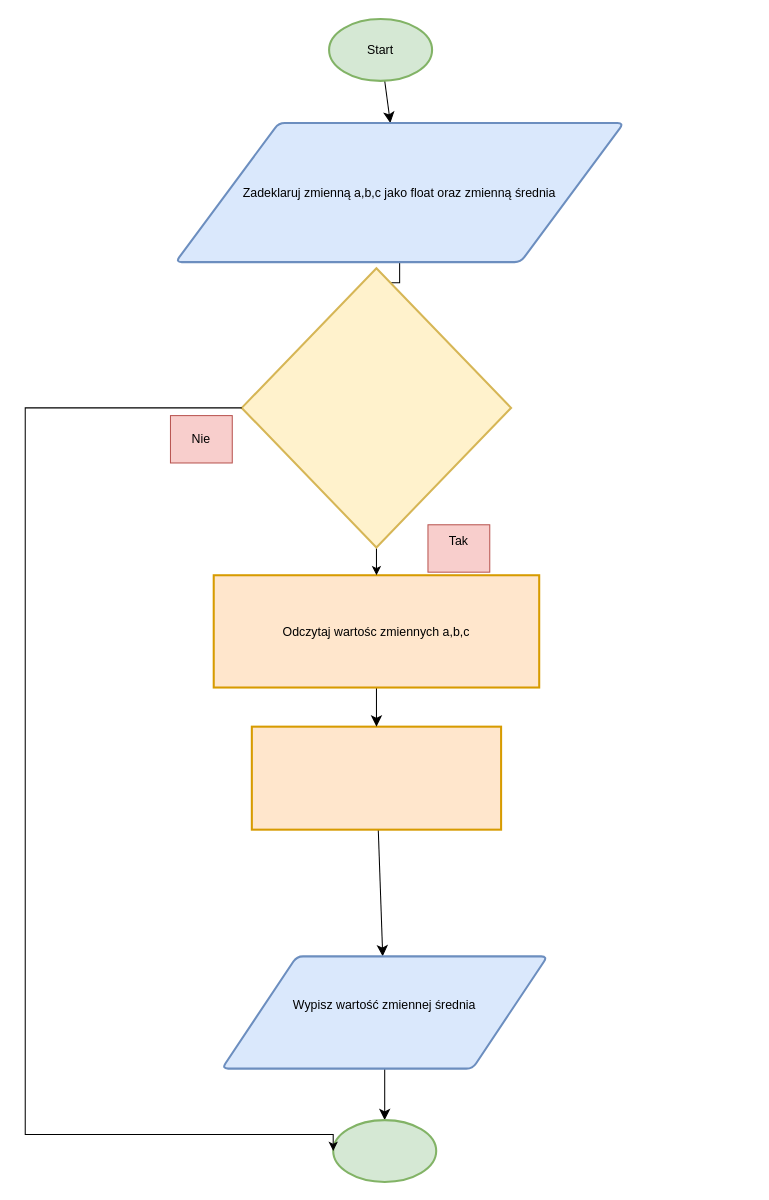
Image size: 769x1200. Some labels were removed from this diagram. The centre of each missing label's shape, as x and y in pixels:
"Czy a , b oraz c są wartościami liczbowymi?" belongs at (x=376, y=407).
"Stop" belongs at (x=384, y=1150).
"średnia = (a+b+c)/3" belongs at (x=376, y=777).
